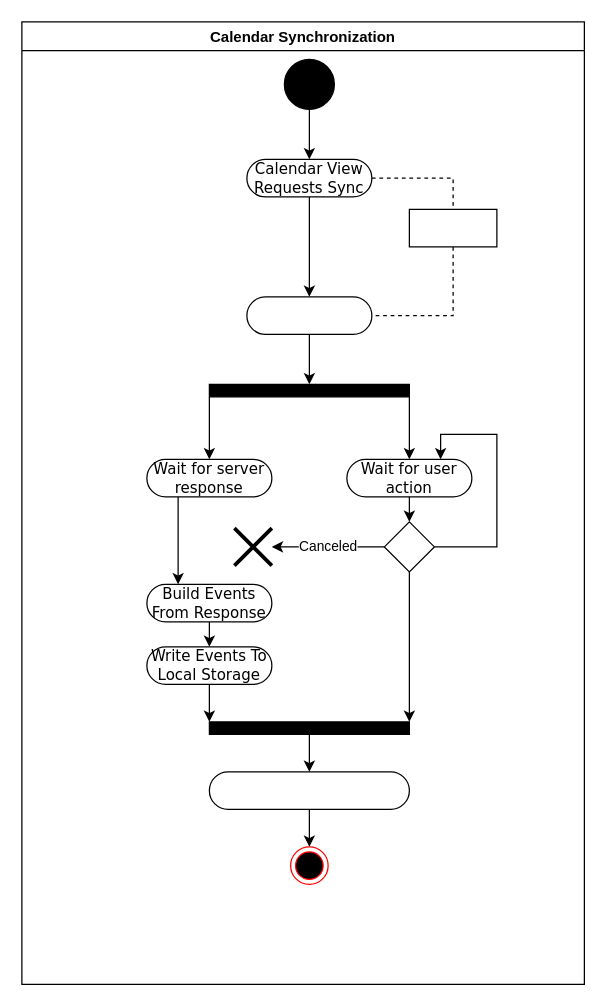
The diagram is 606 pixels wide and 1006 high, and some of its shapes have lost their labels. The box of each missing label's shape, as (x1, y1, x2, y2) in pixels:
Request Info: (408, 208, 497, 247)
Send Calendar View Request Completion State: (208, 771, 409, 809)
Send Request to Server: (246, 296, 372, 334)
